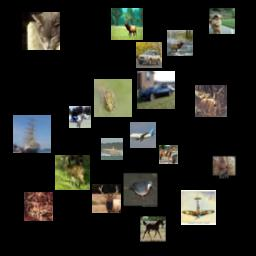airplane: (181, 190, 216, 225), (130, 122, 156, 148)
automobile: (137, 71, 175, 109), (136, 42, 162, 68)
bird: (123, 172, 158, 207)
cat: (22, 12, 60, 50), (211, 155, 237, 181)
deer: (55, 155, 90, 190), (195, 85, 227, 117), (111, 8, 143, 40), (92, 184, 121, 213), (167, 30, 193, 56)
dog: (209, 8, 235, 34)
frog: (94, 79, 132, 117), (24, 192, 53, 221)
ship: (13, 115, 51, 153), (101, 138, 123, 160)
